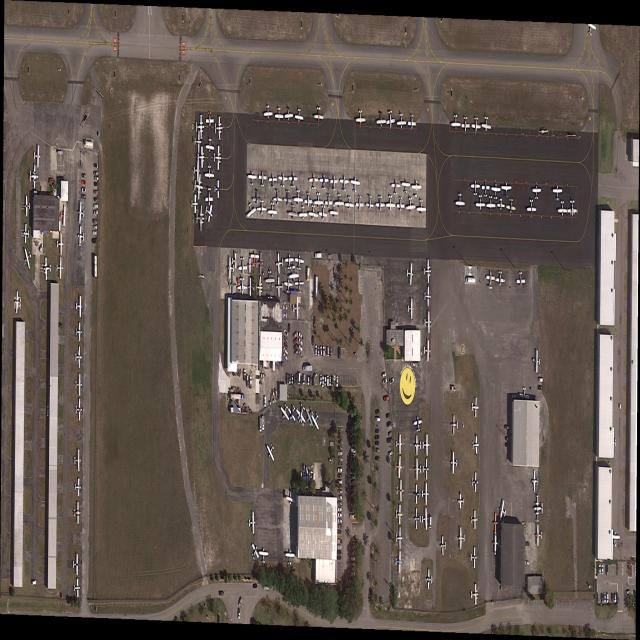large-vehicle: (303, 365, 312, 372), (315, 253, 322, 260), (314, 317, 316, 328)
plane: (295, 399, 308, 430), (265, 439, 277, 466), (193, 173, 204, 202), (305, 403, 316, 430), (310, 408, 321, 435), (23, 243, 33, 272), (498, 497, 508, 525), (280, 399, 291, 424), (287, 400, 298, 425), (195, 205, 205, 232), (195, 114, 205, 140), (534, 495, 543, 523), (204, 201, 214, 226), (250, 540, 260, 565), (406, 261, 415, 288), (213, 145, 222, 172), (246, 199, 257, 221), (30, 164, 39, 189), (255, 251, 264, 276), (314, 106, 324, 127), (411, 180, 422, 199), (481, 115, 492, 134), (14, 290, 22, 316), (470, 583, 479, 606), (215, 116, 223, 141), (421, 482, 429, 507), (33, 144, 41, 169), (350, 176, 361, 194), (395, 456, 403, 480), (77, 202, 85, 226), (197, 145, 205, 169), (286, 488, 296, 507), (386, 109, 395, 130), (396, 113, 407, 130), (501, 182, 512, 199), (284, 253, 295, 270), (395, 551, 403, 574), (396, 480, 404, 503), (471, 396, 479, 419), (422, 434, 430, 457), (77, 225, 85, 248), (56, 233, 64, 256), (423, 339, 431, 362), (450, 414, 458, 437), (406, 196, 416, 214), (451, 114, 461, 132), (455, 192, 465, 210), (491, 183, 501, 201), (237, 278, 247, 296), (295, 254, 305, 272), (568, 200, 578, 218), (396, 504, 404, 526), (73, 502, 81, 524), (59, 205, 67, 227), (276, 252, 284, 274), (424, 259, 431, 284), (227, 256, 234, 281), (75, 397, 82, 422), (319, 204, 328, 223), (486, 271, 495, 290), (238, 257, 247, 276), (386, 195, 396, 212), (391, 179, 401, 196), (417, 199, 427, 216), (356, 110, 366, 127), (314, 193, 324, 210), (309, 205, 319, 222), (610, 532, 620, 549), (268, 201, 278, 218), (285, 550, 295, 567), (278, 173, 288, 190), (309, 173, 319, 190), (259, 548, 269, 565), (250, 250, 260, 267), (422, 508, 429, 532), (451, 451, 458, 475), (534, 350, 541, 374), (193, 159, 200, 183), (74, 449, 81, 473), (75, 345, 82, 369), (44, 256, 51, 280), (293, 297, 300, 321), (249, 511, 256, 535), (414, 458, 421, 482), (424, 311, 431, 335), (458, 527, 465, 551), (461, 115, 470, 133), (472, 116, 481, 134), (366, 194, 375, 212), (273, 189, 282, 207), (335, 193, 344, 211), (476, 194, 485, 212), (396, 527, 403, 550), (532, 470, 539, 493), (195, 131, 202, 154), (24, 195, 31, 218), (75, 373, 82, 396), (76, 295, 83, 318), (56, 257, 63, 280), (535, 524, 542, 547), (319, 174, 329, 190), (506, 198, 516, 214), (495, 271, 505, 287), (486, 196, 496, 212), (558, 201, 568, 217), (257, 201, 267, 217), (284, 279, 294, 295), (276, 277, 284, 297), (289, 266, 299, 282), (553, 186, 563, 202), (426, 569, 433, 591), (472, 471, 479, 493), (414, 508, 421, 530), (73, 554, 80, 576), (407, 298, 414, 320), (377, 111, 386, 128), (471, 180, 480, 197), (376, 196, 385, 213), (289, 204, 298, 221), (345, 195, 354, 212), (413, 416, 422, 433), (517, 271, 526, 288), (295, 108, 304, 125), (205, 188, 213, 207), (205, 165, 215, 180), (472, 435, 479, 456), (424, 286, 431, 307), (75, 321, 82, 342), (256, 276, 263, 297), (356, 194, 364, 212), (294, 190, 303, 206), (340, 177, 349, 193), (532, 185, 541, 201), (527, 199, 536, 215), (206, 137, 214, 155), (275, 106, 284, 122), (264, 104, 273, 120), (248, 172, 257, 188), (258, 172, 267, 188), (289, 173, 298, 189), (402, 179, 411, 195), (191, 195, 198, 215), (471, 510, 478, 530), (284, 190, 292, 207), (325, 193, 333, 210), (330, 175, 338, 192), (299, 206, 308, 221), (284, 107, 293, 122), (266, 271, 275, 286), (214, 180, 221, 199), (74, 478, 81, 497), (493, 536, 500, 555), (471, 547, 477, 569), (441, 535, 447, 557), (415, 435, 421, 457), (423, 458, 429, 480), (23, 223, 29, 245), (408, 114, 416, 130), (482, 182, 490, 198), (330, 204, 339, 218), (305, 192, 313, 207), (493, 513, 499, 533), (396, 434, 402, 454), (206, 112, 214, 127), (74, 578, 80, 598), (253, 189, 261, 204), (269, 174, 277, 189), (414, 484, 420, 504), (247, 257, 254, 274), (248, 278, 254, 297), (397, 196, 404, 212), (497, 198, 505, 212), (232, 252, 238, 270), (295, 279, 304, 291), (458, 494, 464, 510)
small-vehicle: (238, 597, 243, 608), (299, 331, 304, 341), (284, 328, 289, 338), (283, 346, 288, 356), (283, 352, 288, 362), (349, 571, 356, 578), (389, 377, 394, 386), (293, 330, 298, 339), (298, 338, 303, 347), (307, 267, 310, 282), (262, 416, 265, 431), (259, 417, 262, 432), (287, 323, 291, 334), (350, 513, 356, 520), (375, 416, 381, 423), (298, 372, 301, 386), (246, 374, 249, 388), (386, 420, 391, 428), (386, 412, 391, 420), (39, 244, 43, 254), (293, 337, 298, 345), (293, 343, 298, 351), (294, 349, 299, 357), (298, 345, 303, 353), (429, 517, 432, 530), (337, 501, 343, 507), (336, 376, 339, 388), (337, 473, 343, 479), (450, 385, 456, 391), (606, 564, 609, 576), (383, 395, 389, 401), (91, 238, 97, 244), (307, 375, 310, 387), (319, 374, 322, 386), (264, 585, 270, 591), (249, 377, 252, 389), (284, 335, 288, 344), (284, 341, 288, 350), (375, 447, 380, 454), (411, 361, 416, 368), (350, 549, 355, 556), (350, 555, 355, 562), (387, 437, 392, 444), (388, 431, 393, 438), (93, 218, 98, 225), (81, 179, 86, 186), (601, 564, 604, 575), (614, 593, 617, 604), (611, 593, 614, 604), (238, 608, 241, 619), (299, 351, 303, 359), (337, 513, 343, 518), (338, 518, 343, 524), (337, 529, 342, 535), (337, 538, 342, 544), (337, 549, 342, 555), (337, 555, 342, 561), (351, 448, 356, 454), (351, 474, 356, 480), (351, 468, 356, 474), (351, 502, 356, 508), (338, 489, 343, 495), (324, 376, 327, 386), (331, 376, 334, 386), (338, 440, 343, 446), (338, 462, 343, 468), (337, 479, 343, 484), (538, 385, 543, 391), (525, 560, 530, 566), (505, 425, 510, 431), (505, 435, 510, 441), (350, 561, 355, 567), (388, 451, 393, 457), (92, 231, 97, 237), (81, 194, 86, 200), (82, 187, 87, 193), (82, 173, 87, 179), (94, 181, 99, 187), (261, 373, 266, 379), (383, 378, 387, 385), (338, 347, 340, 360), (327, 375, 329, 388), (329, 375, 331, 388), (47, 405, 49, 418), (322, 375, 324, 388), (351, 480, 356, 485), (375, 457, 380, 462), (338, 485, 343, 490), (338, 446, 343, 451), (338, 451, 343, 456), (338, 457, 343, 462), (338, 468, 343, 473), (375, 435, 380, 440), (512, 394, 517, 399), (375, 429, 380, 434), (375, 409, 380, 414), (350, 541, 355, 546), (350, 545, 355, 550), (94, 204, 99, 209), (94, 210, 99, 215), (219, 591, 224, 596), (94, 171, 99, 176), (338, 523, 342, 529), (338, 544, 342, 550), (607, 592, 609, 604), (539, 377, 543, 383), (601, 593, 603, 605), (94, 197, 98, 203), (94, 163, 98, 169), (303, 374, 305, 386), (264, 395, 266, 407), (287, 373, 289, 385), (289, 373, 291, 385), (599, 565, 601, 576), (323, 346, 325, 357), (320, 346, 322, 357), (301, 375, 303, 386), (296, 374, 298, 385), (315, 345, 317, 356), (244, 369, 246, 380), (291, 374, 293, 385), (338, 507, 342, 512), (351, 453, 355, 458), (338, 435, 342, 440), (330, 347, 332, 357), (375, 441, 379, 446), (525, 541, 529, 546), (604, 593, 606, 603), (505, 443, 509, 448), (382, 373, 386, 378), (327, 347, 329, 357), (94, 190, 98, 195), (33, 580, 37, 585), (253, 584, 258, 588), (318, 347, 320, 357), (310, 377, 312, 387), (312, 336, 314, 346), (294, 374, 296, 384), (627, 590, 631, 594), (338, 496, 342, 500), (93, 225, 97, 229), (95, 177, 99, 181)
